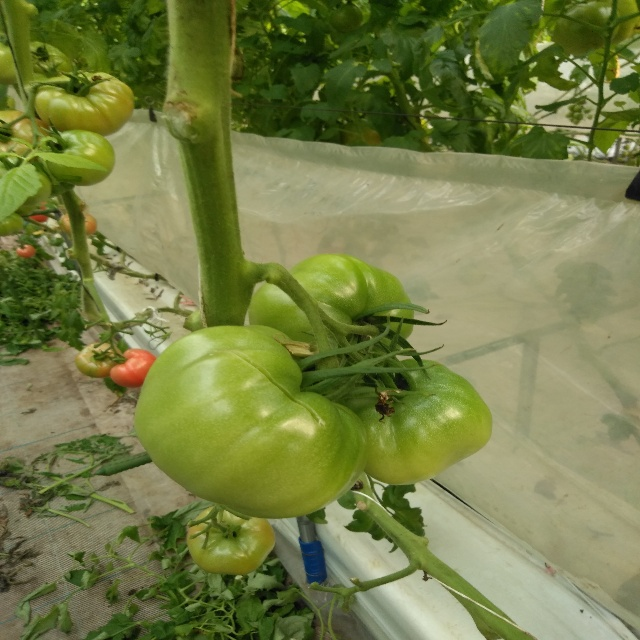b_green: (132, 325, 368, 519), (325, 358, 492, 485), (248, 252, 415, 373), (33, 70, 134, 137), (186, 504, 275, 575), (40, 130, 117, 187), (30, 41, 73, 79), (0, 213, 23, 236)
b_half_ripened: (0, 111, 54, 164), (110, 348, 157, 388), (75, 342, 122, 377), (60, 212, 98, 236)
